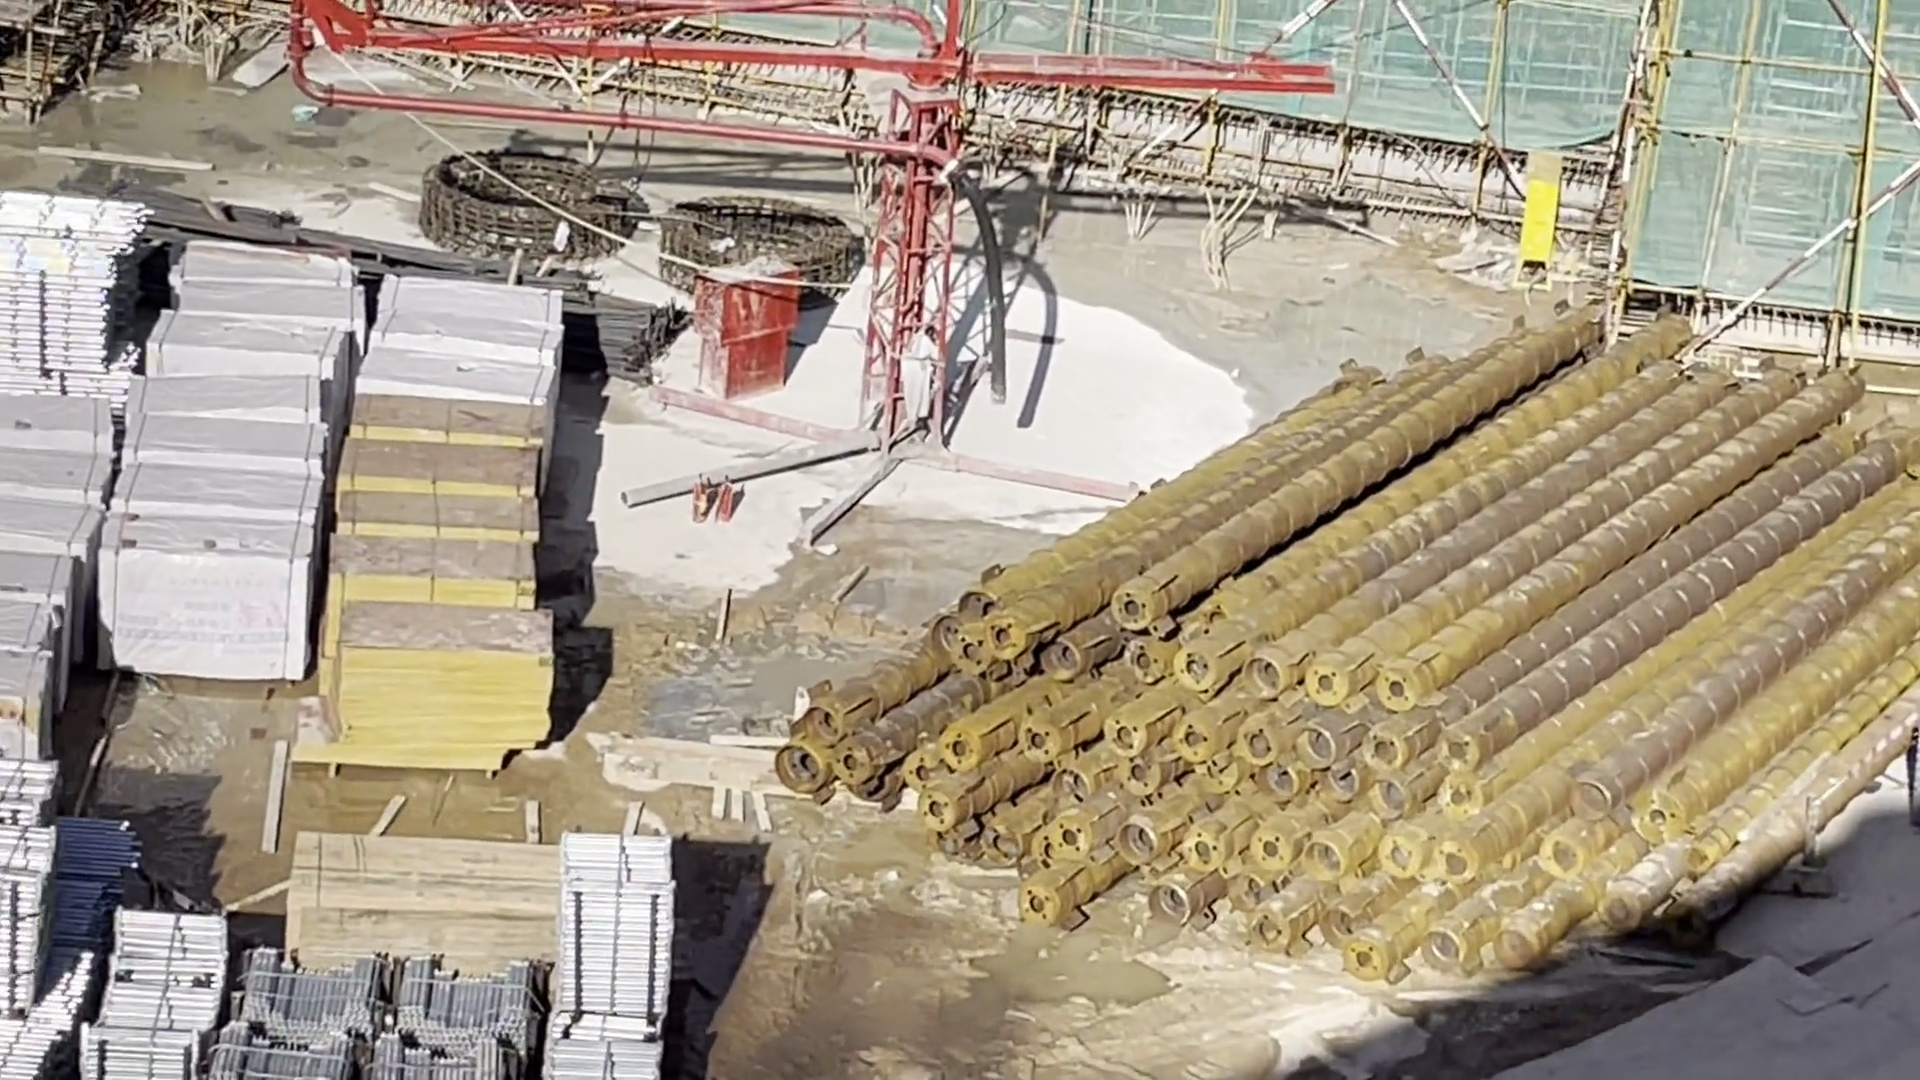board: (327, 400, 538, 764), (295, 833, 572, 953)
ebox: (1516, 156, 1557, 266)
rebar: (169, 203, 673, 375)
scaffold: (224, 951, 535, 1080), (541, 837, 665, 1080), (1, 200, 146, 396), (83, 913, 220, 1080), (1, 786, 51, 1018)
